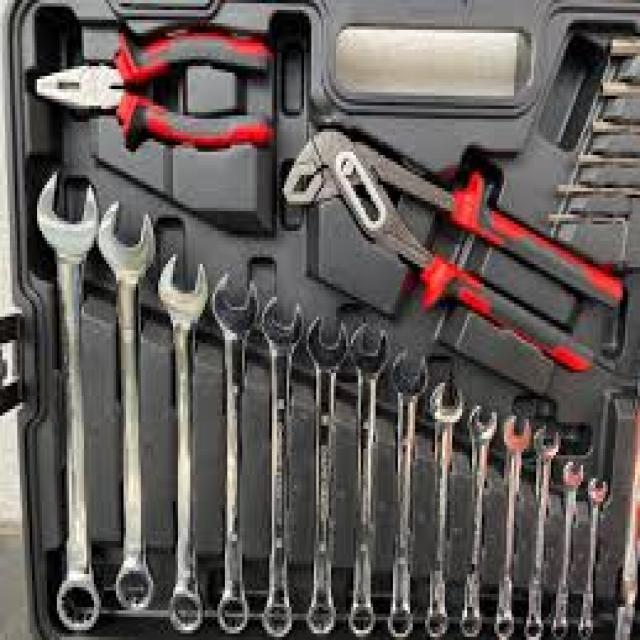pliers: (281, 122, 622, 372), (34, 15, 274, 154)
wrench: (32, 165, 104, 640), (96, 195, 160, 616), (153, 249, 214, 639), (210, 270, 260, 640), (257, 290, 308, 640), (304, 310, 354, 634), (344, 322, 390, 636), (385, 348, 432, 638), (426, 376, 466, 636), (461, 398, 501, 638), (496, 412, 532, 640), (526, 423, 564, 637), (554, 458, 588, 634), (578, 472, 611, 640)
